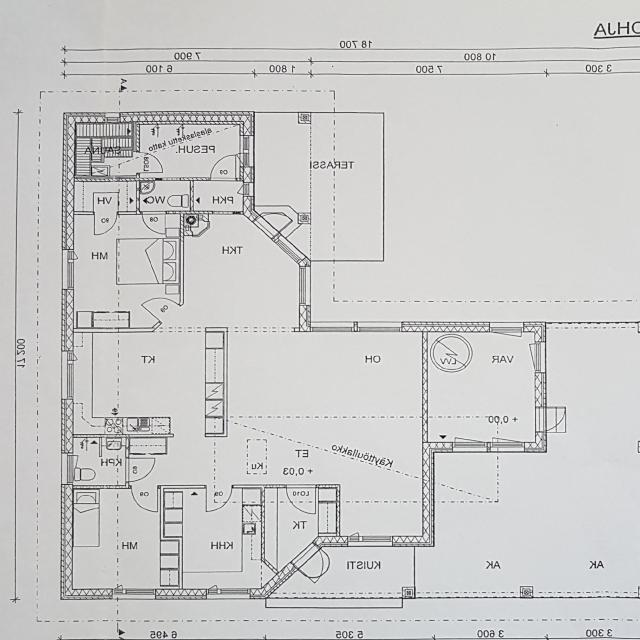door: (291, 543, 340, 587), (252, 198, 296, 238), (142, 288, 181, 323), (286, 485, 316, 515), (536, 408, 572, 431), (126, 458, 156, 482), (132, 485, 158, 512), (211, 155, 236, 181), (207, 485, 232, 511), (143, 211, 165, 235), (137, 152, 162, 173), (95, 212, 117, 234)
